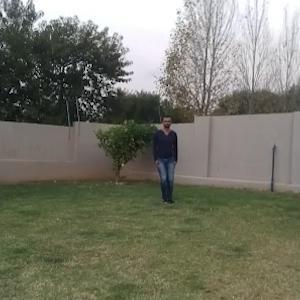follow: (153, 114, 177, 207)
